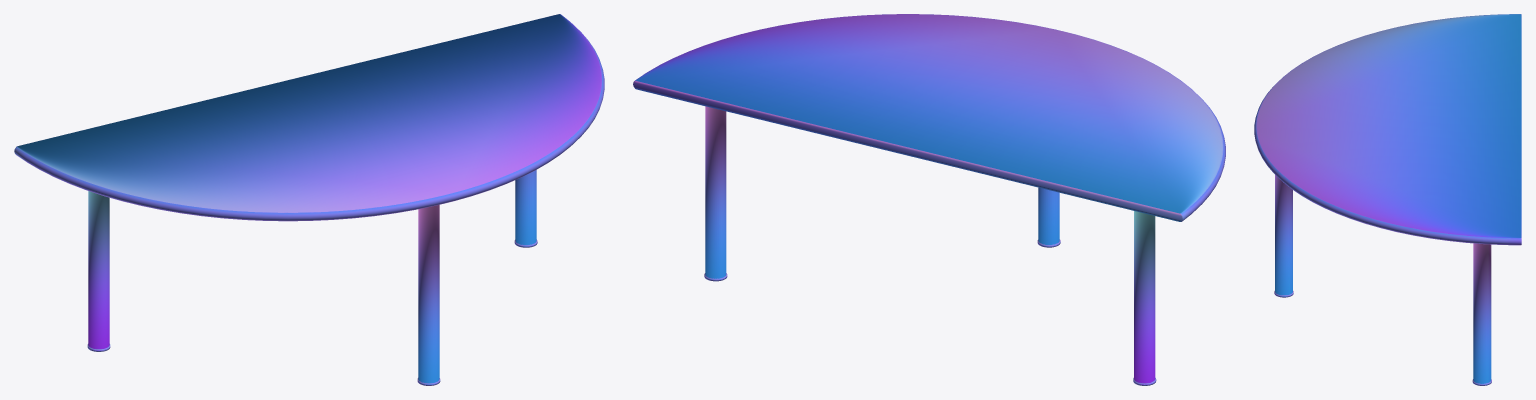
File: SemiCircTable.fbx
3 renders of one model, left to right at view 1: azimuth 30°, elevation 25°; view 2: azimuth 150°, elevation 25°; view 3: azimuth 270°, elevation 25°, orthographic. The views are drawn at different scales.
Visible parts, largest first — view 1: SM_SemicircularTable; view 2: SM_SemicircularTable; view 3: SM_SemicircularTable.
Part boxes in pixels (x1=…): SM_SemicircularTable: x1=14, y1=14, x2=604, y2=385; SM_SemicircularTable: x1=633, y1=14, x2=1225, y2=385; SM_SemicircularTable: x1=1254, y1=14, x2=1521, y2=385.
Size of the model in its own units: 125 by 43.28 by 62.71.
